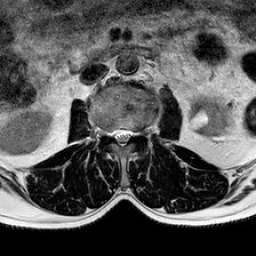CCS_normal: (118, 120, 125, 153)
LFS_stenosis: (133, 121, 140, 145)
LLS_normal: (125, 122, 133, 147)
RFS_stenosis: (104, 118, 110, 146)
RLS_normal: (110, 121, 118, 146)
